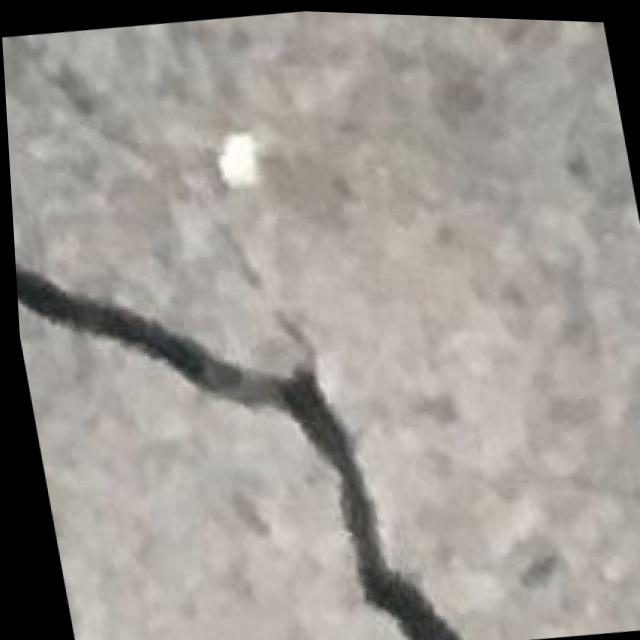Crack: (0, 0, 471, 640)
